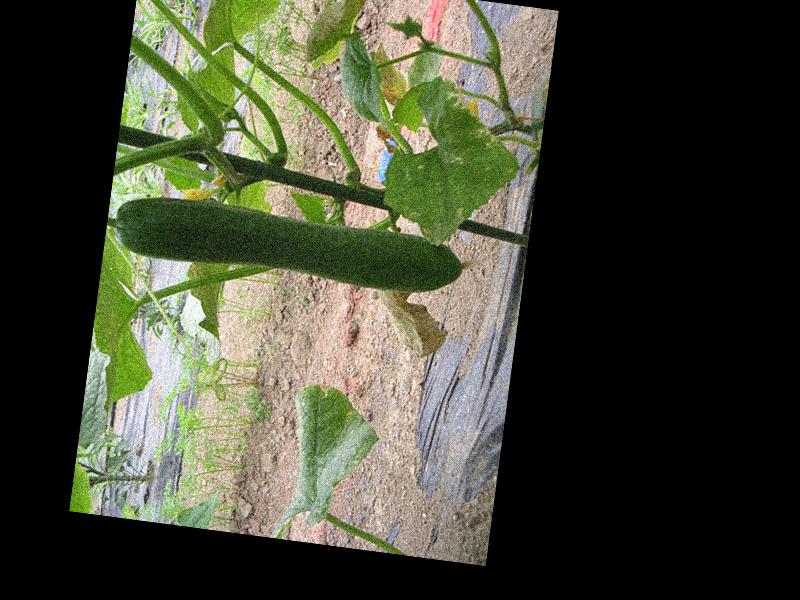Cucumber: (111, 189, 476, 300)
